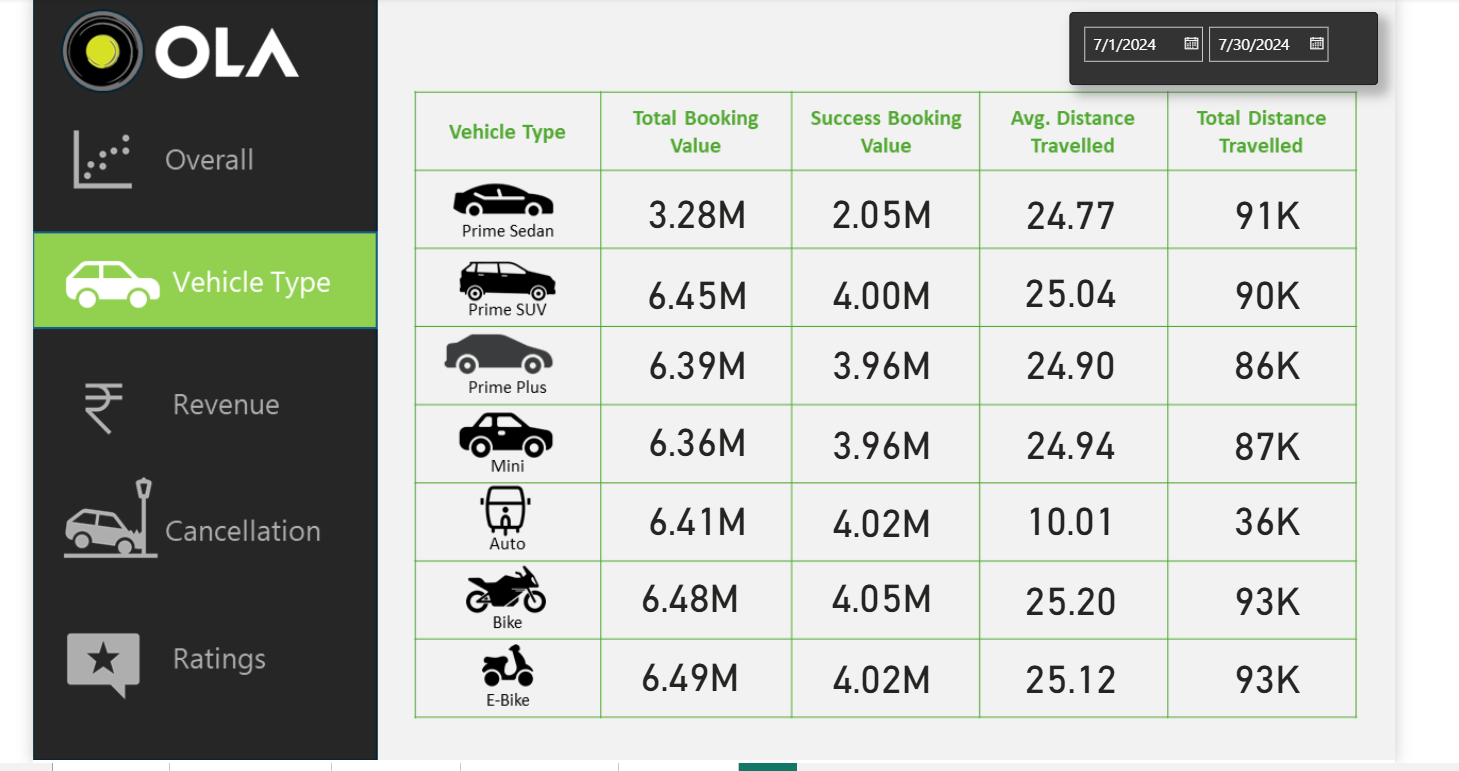

The dashboard page shown, as its layout file describes it:
{"tool":"powerbi","page":{"name":"Vehicle Type","canvas":[1280,720],"ordinal":1},"visuals":[{"type":"actionButton","box":[0,111,320.4,90.7],"z":0},{"type":"actionButton","box":[1.6,326.7,320.4,90.7],"z":1000},{"type":"actionButton","box":[0,575.2,320.4,90.7],"z":2000},{"type":"actionButton","box":[0,443.9,320.4,90.7],"z":3000},{"type":"actionButton","box":[1.6,215.7,320.4,90.7],"z":4000},{"type":"card","fields":{"Values":["Sum(ola_bookings.Booking_Value)"]},"box":[544.9,171.9,156.3,56.6],"z":5000},{"type":"card","fields":{"Values":["Sum(ola_bookings.Booking_Value)"]},"box":[544.9,248.1,156.3,56.6],"z":6000},{"type":"card","fields":{"Values":["Sum(ola_bookings.Booking_Value)"]},"box":[544.9,314.5,156.3,56.6],"z":7000},{"type":"card","fields":{"Values":["Sum(ola_bookings.Booking_Value)"]},"box":[544.9,386.7,156.3,56.6],"z":8000},{"type":"card","fields":{"Values":["Sum(ola_bookings.Booking_Value)"]},"box":[544.9,461,156.3,56.6],"z":9000},{"type":"card","fields":{"Values":["Sum(ola_bookings.Booking_Value)"]},"box":[539.1,533.2,156.3,56.6],"z":10000},{"type":"card","fields":{"Values":["Sum(ola_bookings.Booking_Value)"]},"box":[539.1,607.5,156.3,56.6],"z":11000},{"type":"card","fields":{"Values":["Sum(ola_bookings.Booking_Value)"]},"box":[718.8,171.9,156.3,56.6],"z":12000},{"type":"card","fields":{"Values":["Sum(ola_bookings.Booking_Value)"]},"box":[718.8,248.1,156.3,56.6],"z":13000},{"type":"card","fields":{"Values":["Sum(ola_bookings.Booking_Value)"]},"box":[718.8,314.5,156.3,56.6],"z":14000},{"type":"card","fields":{"Values":["Sum(ola_bookings.Booking_Value)"]},"box":[718.8,388.7,156.3,56.6],"z":15000},{"type":"card","fields":{"Values":["Sum(ola_bookings.Booking_Value)"]},"box":[718.8,462.9,156.3,56.6],"z":16000},{"type":"card","fields":{"Values":["Sum(ola_bookings.Booking_Value)"]},"box":[718.8,533.2,156.3,56.6],"z":17000},{"type":"card","fields":{"Values":["Sum(ola_bookings.Booking_Value)"]},"box":[718.8,609.4,156.3,56.6],"z":18000},{"type":"card","fields":{"Values":["Avg(ola_bookings.Ride_Distance)"]},"box":[896.5,173.8,156.3,56.6],"z":19000},{"type":"card","fields":{"Values":["Avg(ola_bookings.Ride_Distance)"]},"box":[896.5,314.5,156.3,56.6],"z":20000},{"type":"card","fields":{"Values":["Avg(ola_bookings.Ride_Distance)"]},"box":[896.5,388.7,156.3,56.6],"z":21000},{"type":"card","fields":{"Values":["Avg(ola_bookings.Ride_Distance)"]},"box":[896.5,461,156.3,56.6],"z":22000},{"type":"card","fields":{"Values":["Avg(ola_bookings.Ride_Distance)"]},"box":[896.5,535.2,156.3,56.6],"z":23000},{"type":"card","fields":{"Values":["Avg(ola_bookings.Ride_Distance)"]},"box":[896.5,609.4,156.3,56.6],"z":24000},{"type":"card","fields":{"Values":["Sum(ola_bookings.Ride_Distance)"]},"box":[1082.1,173.8,156.3,56.6],"z":25000},{"type":"card","fields":{"Values":["Sum(ola_bookings.Ride_Distance)"]},"box":[1082.1,609.4,156.3,56.6],"z":26000},{"type":"card","fields":{"Values":["Sum(ola_bookings.Ride_Distance)"]},"box":[1082.1,248.1,156.3,56.6],"z":27000},{"type":"card","fields":{"Values":["Sum(ola_bookings.Ride_Distance)"]},"box":[1082.1,314.5,156.3,56.6],"z":28000},{"type":"card","fields":{"Values":["Sum(ola_bookings.Ride_Distance)"]},"box":[1082.1,390.6,156.3,56.6],"z":29000},{"type":"card","fields":{"Values":["Sum(ola_bookings.Ride_Distance)"]},"box":[1082.1,461,156.3,56.6],"z":30000},{"type":"card","fields":{"Values":["Sum(ola_bookings.Ride_Distance)"]},"box":[1082.1,535.2,156.3,56.6],"z":31000},{"type":"card","fields":{"Values":["Avg(ola_bookings.Ride_Distance)"]},"box":[896.3,246.8,156,57.3],"z":32000},{"type":"slicer","title":"Date","fields":{"Values":["ola_bookings.Date"]},"box":[974.3,14.7,289.8,68.8],"z":33000}]}

Visuals, with their boxes on the page's 1280x720 design canvas (x1, y1, x2, y2). These are canvas units, not pixel positions in the 1459x771 screenshot, which may show the page scaled, cropped or inside an application window:
actionButton: 0,111,320,202
actionButton: 2,327,322,417
actionButton: 0,575,320,666
actionButton: 0,444,320,535
actionButton: 2,216,322,306
card - Sum(ola_bookings.Booking_Value): 545,172,701,228
card - Sum(ola_bookings.Booking_Value): 545,248,701,305
card - Sum(ola_bookings.Booking_Value): 545,314,701,371
card - Sum(ola_bookings.Booking_Value): 545,387,701,443
card - Sum(ola_bookings.Booking_Value): 545,461,701,518
card - Sum(ola_bookings.Booking_Value): 539,533,695,590
card - Sum(ola_bookings.Booking_Value): 539,608,695,664
card - Sum(ola_bookings.Booking_Value): 719,172,875,228
card - Sum(ola_bookings.Booking_Value): 719,248,875,305
card - Sum(ola_bookings.Booking_Value): 719,314,875,371
card - Sum(ola_bookings.Booking_Value): 719,389,875,445
card - Sum(ola_bookings.Booking_Value): 719,463,875,520
card - Sum(ola_bookings.Booking_Value): 719,533,875,590
card - Sum(ola_bookings.Booking_Value): 719,609,875,666
card - Avg(ola_bookings.Ride_Distance): 896,174,1053,230
card - Avg(ola_bookings.Ride_Distance): 896,314,1053,371
card - Avg(ola_bookings.Ride_Distance): 896,389,1053,445
card - Avg(ola_bookings.Ride_Distance): 896,461,1053,518
card - Avg(ola_bookings.Ride_Distance): 896,535,1053,592
card - Avg(ola_bookings.Ride_Distance): 896,609,1053,666
card - Sum(ola_bookings.Ride_Distance): 1082,174,1238,230
card - Sum(ola_bookings.Ride_Distance): 1082,609,1238,666
card - Sum(ola_bookings.Ride_Distance): 1082,248,1238,305
card - Sum(ola_bookings.Ride_Distance): 1082,314,1238,371
card - Sum(ola_bookings.Ride_Distance): 1082,391,1238,447
card - Sum(ola_bookings.Ride_Distance): 1082,461,1238,518
card - Sum(ola_bookings.Ride_Distance): 1082,535,1238,592
card - Avg(ola_bookings.Ride_Distance): 896,247,1052,304
"Date" slicer: 974,15,1264,84
